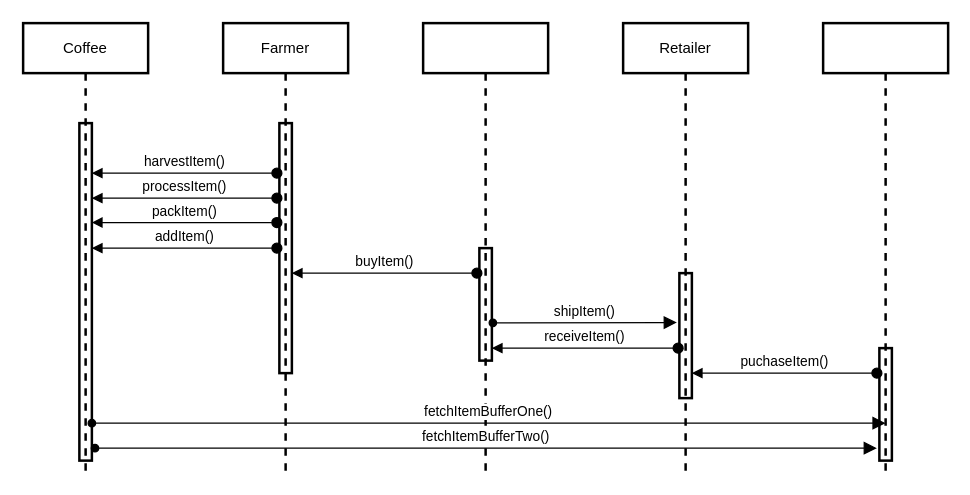
Some shapes in this 970 by 495 pixel diagram are drawn without their labels. Each missing label, with the box of its shape:
Consumer: (821, 21, 949, 474)
Distributor: (421, 21, 549, 474)
